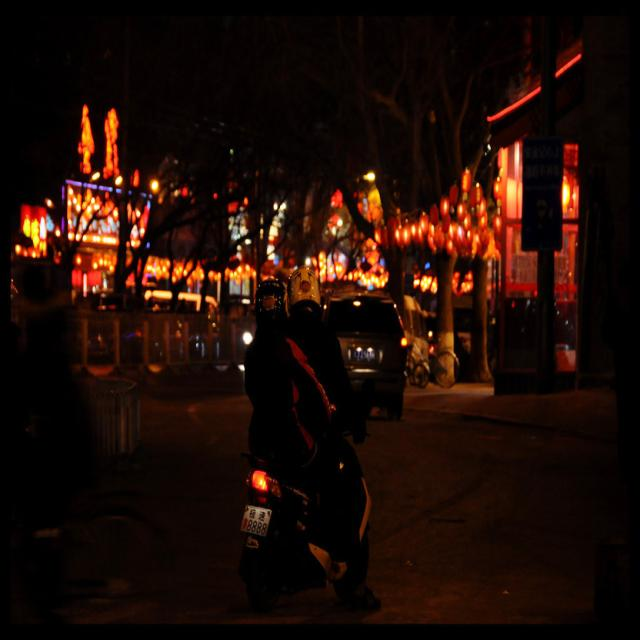Motorbike: (198, 377, 405, 618)
People: (230, 267, 350, 529), (291, 254, 363, 474)
car: (313, 275, 424, 425)
